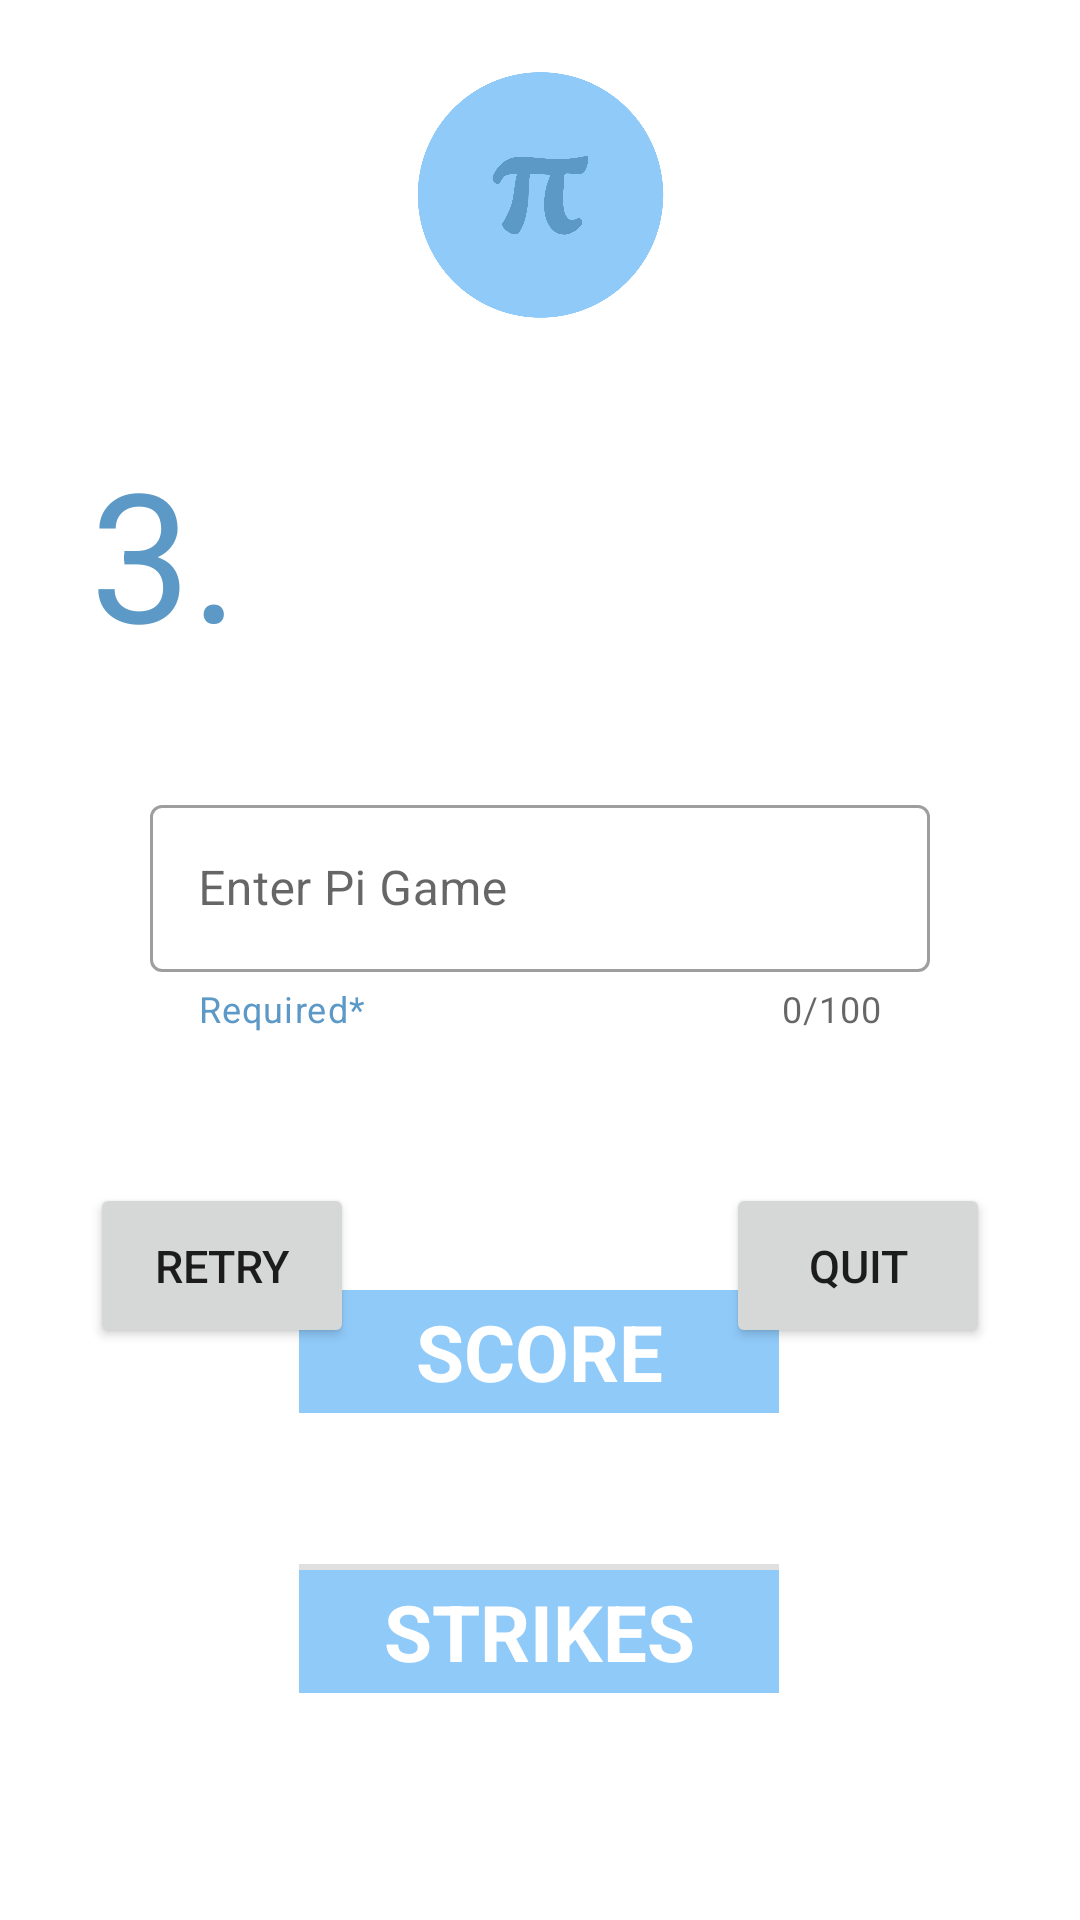

Icon click points for this 1080px x 1920px phone screenshot, format (x=x, y=y):
Pi Game: (x=540, y=195)
